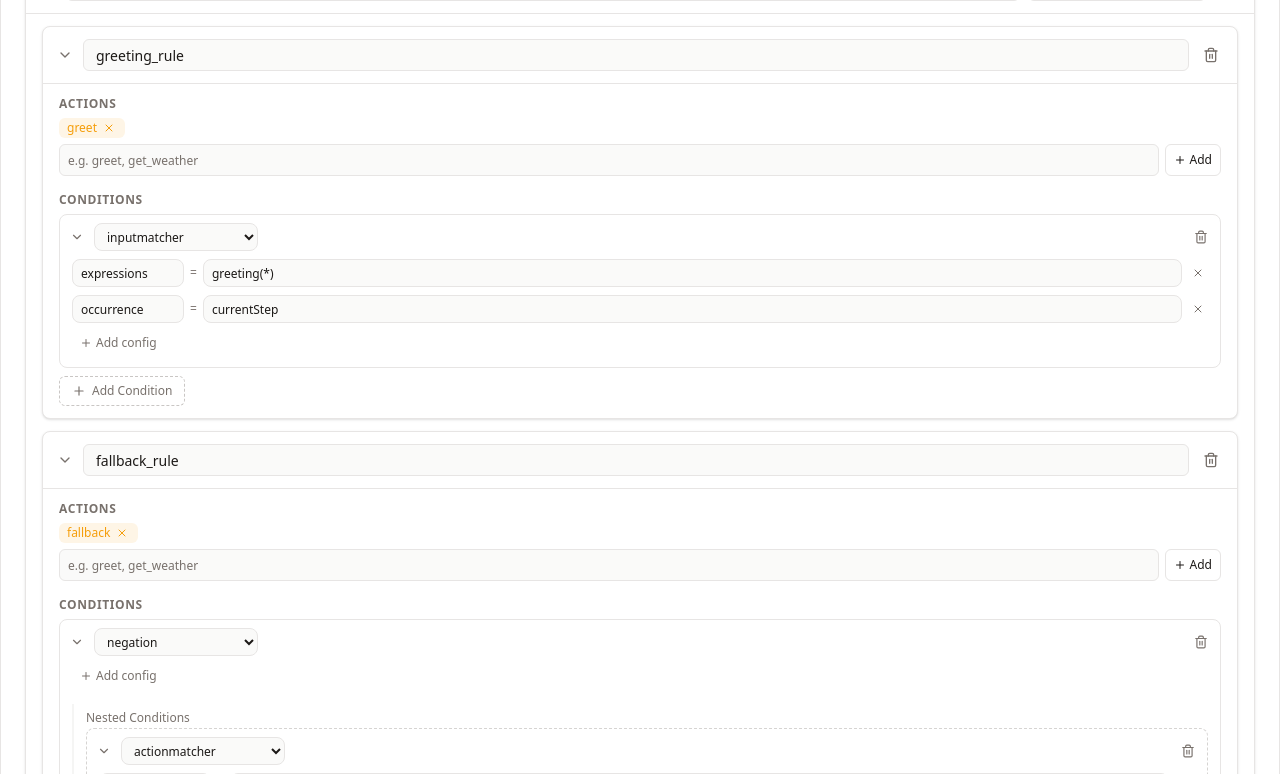
Test: Rules Editor › clicking add condition adds a new condition editor
(page scrolled)
Step 1. Click the button with test id "add-condition-btn" → [122, 391], box [59,376,185,406]
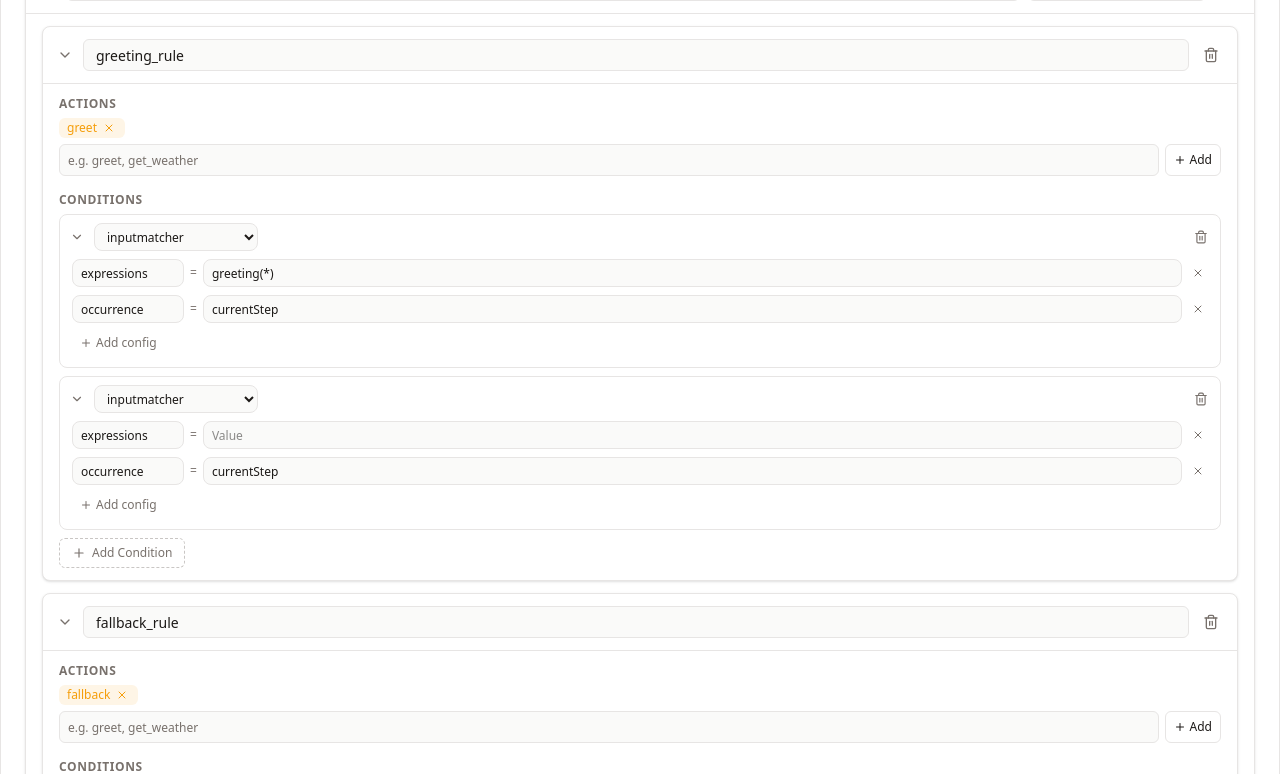
expect the number of elements with test id "condition-editor" is 4: met
